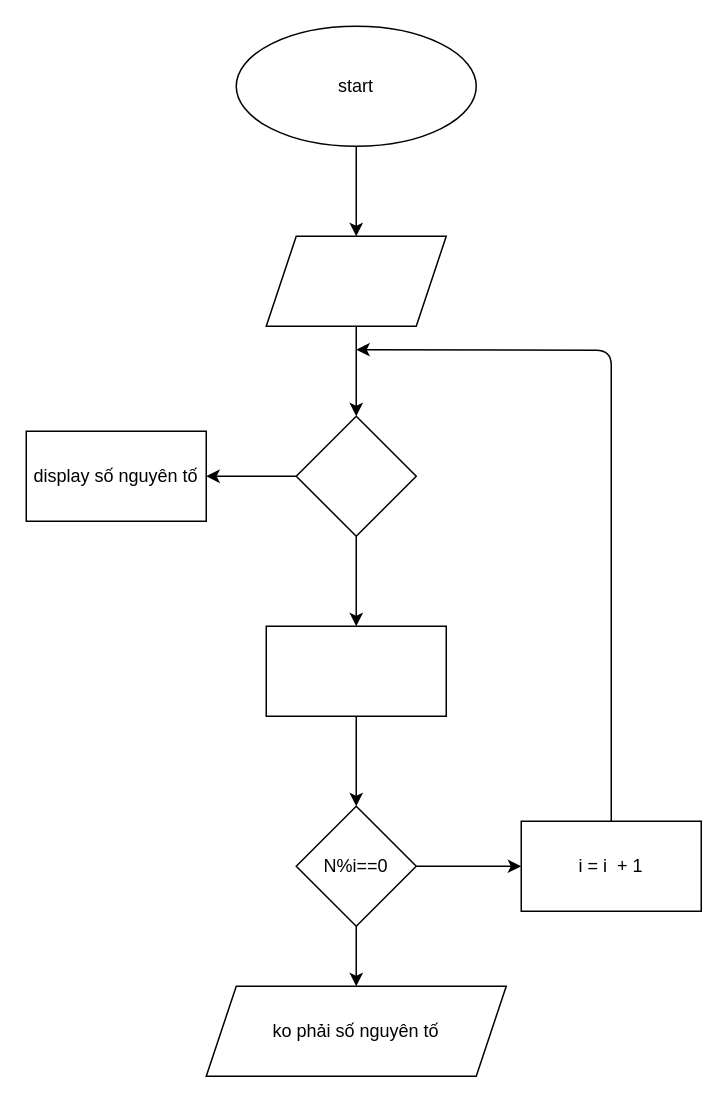
The diagram is 728 pixels wide and 1103 high, and some of its shapes have lost their labels. Each missing label, with the centre of its shape:
i = 2: the point at 355,670
N > 1: the point at 355,475
nhập n: the point at 355,280
